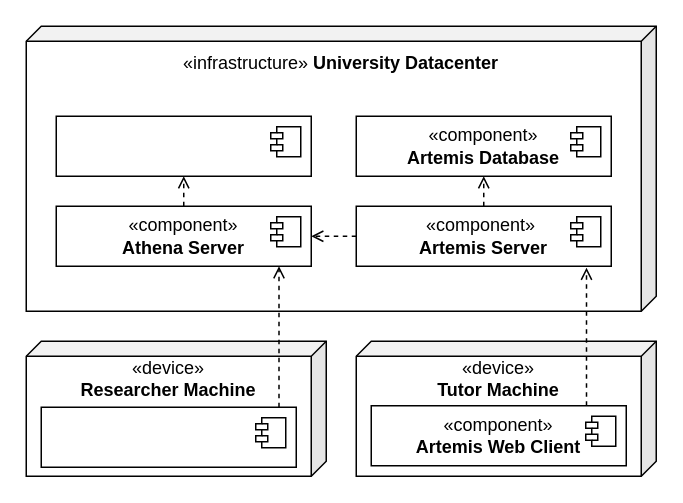
Some shapes in this 683 by 503 pixel diagram are drawn without their labels. Here are the shapes that lost their labels. From the top down, the box of each, then its label:
(55, 115, 311, 176): «component» Athena Database
(40, 406, 296, 467): «component» Athena Playground
